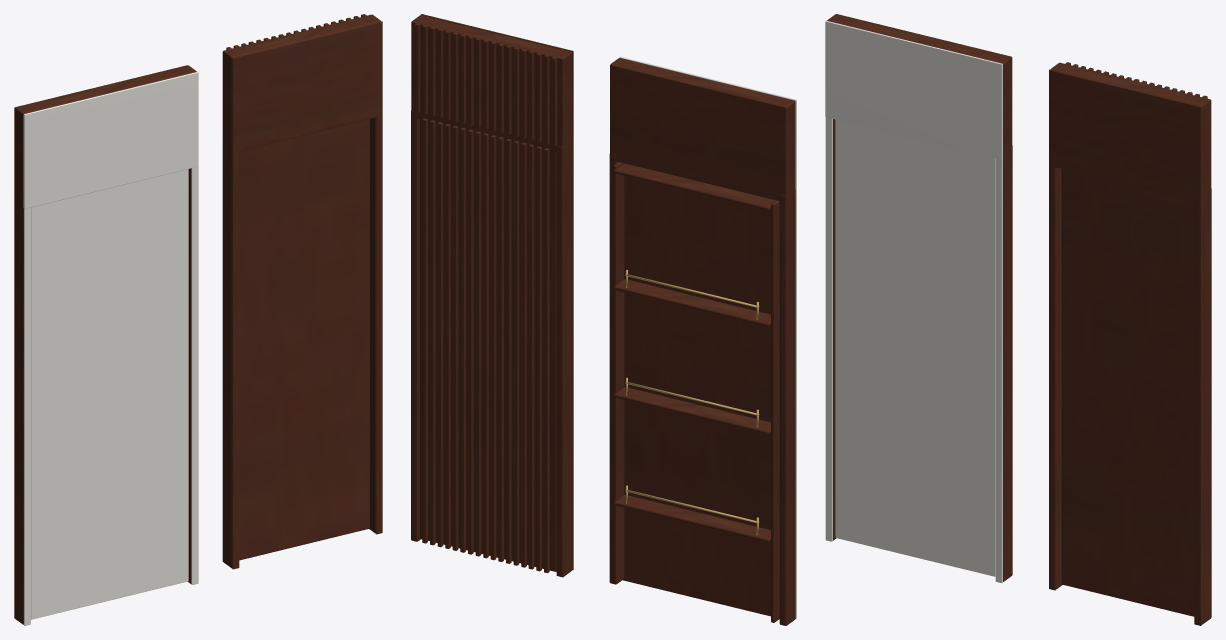
File: doors.glb
The picture shows the model from 3 angles, left to right: view 1: azimuth 30°, elevation 25°; view 2: azimuth 150°, elevation 25°; view 3: azimuth 330°, elevation 25°; orthographic projection.
Visible parts, largest first — view 1: Marshmallow White reverse, Baltimore teak vertical batten, Concealed jamb.002; view 2: Concealed jamb.002, Baltimore teak vertical batten, 10 mm gold retaining rod, Marshmallow White reverse; view 3: Marshmallow White reverse, Baltimore teak vertical batten, Concealed jamb.002.
Part boxes in pixels (bbox=[...]): Marshmallow White reverse: bbox=[23, 72, 198, 625]; Baltimore teak vertical batten: bbox=[222, 14, 382, 569]; Concealed jamb.002: bbox=[14, 65, 196, 624]; Concealed jamb.002: bbox=[609, 58, 795, 625]; Baltimore teak vertical batten: bbox=[411, 14, 573, 577]; 10 mm gold retaining rod: bbox=[625, 270, 759, 535]; Marshmallow White reverse: bbox=[619, 56, 796, 618]; Marshmallow White reverse: bbox=[825, 20, 1002, 583]; Baltimore teak vertical batten: bbox=[1049, 62, 1211, 625]; Concealed jamb.002: bbox=[827, 14, 1012, 581].
Bounding box in the file's own units: 1.95 × 2.61 × 0.1705.
3 materials, 1 textured.
